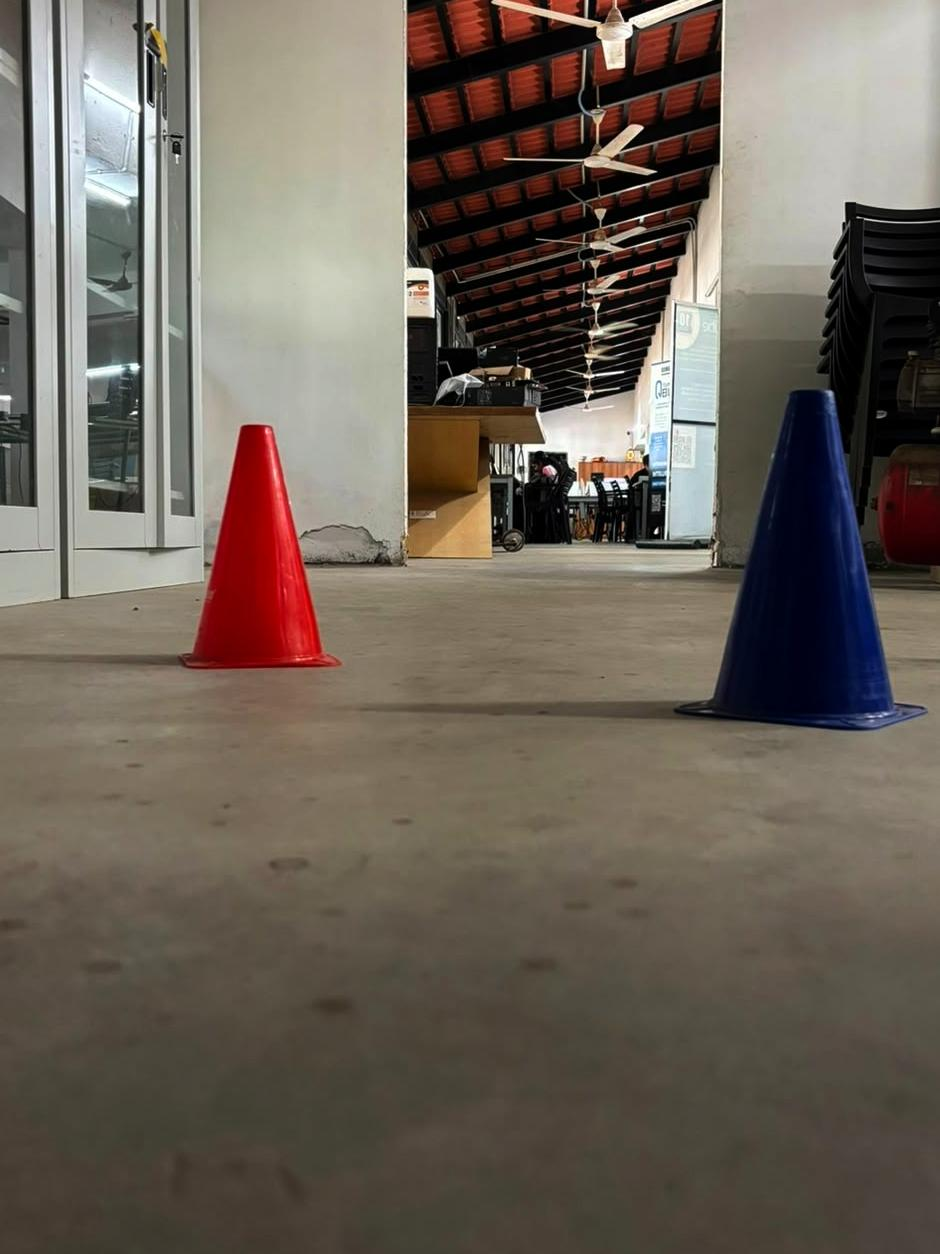0 cone: (677, 391, 924, 730), (181, 426, 336, 669)
